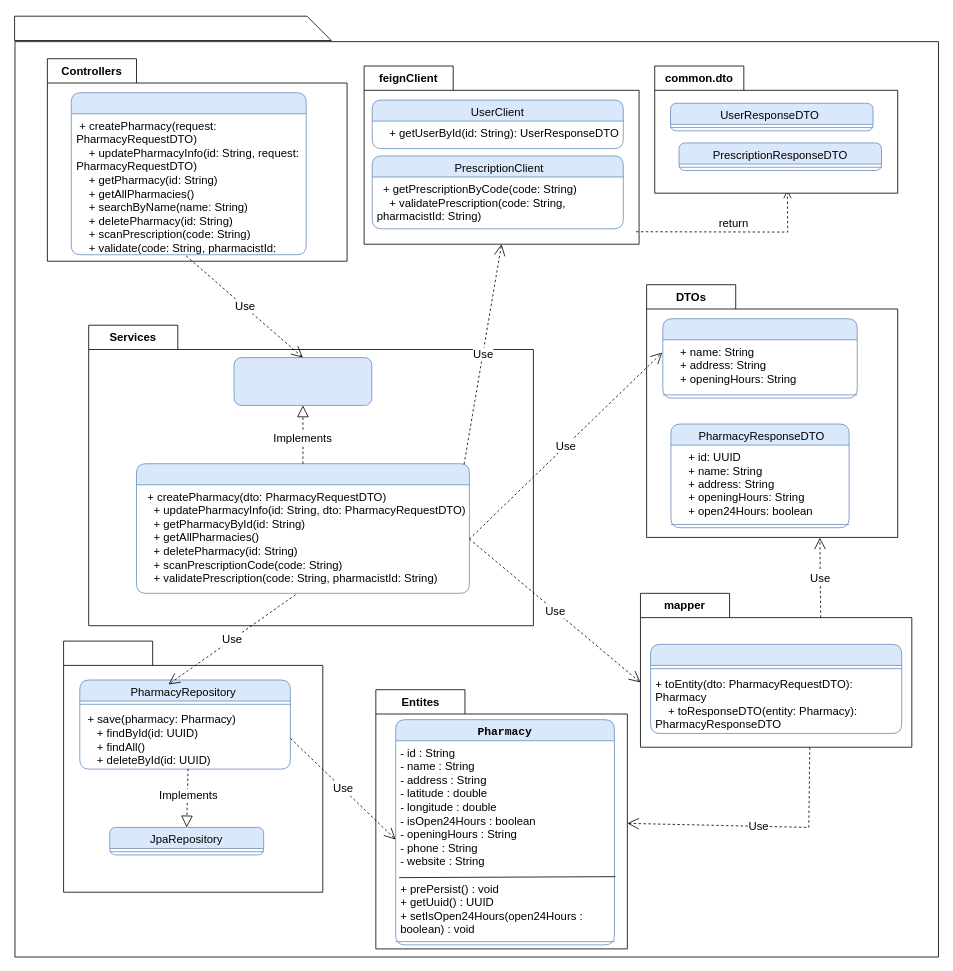
Image size: 953x971. Some labels were removed from this diagram. The box of each missing label's shape, as (x1, y1, x2, y2) in pixels:
PharmacyController: (70, 92, 306, 255)
PharmacyMapper: (650, 644, 902, 733)
PharmacyRequestDTO: (662, 318, 857, 398)
PharmacyServiceImpl: (136, 463, 469, 593)
Pharmcay-service -DC: (14, 15, 331, 40)
Repositories: (63, 640, 323, 892)
«interface» PharmacyService: (233, 357, 372, 405)
